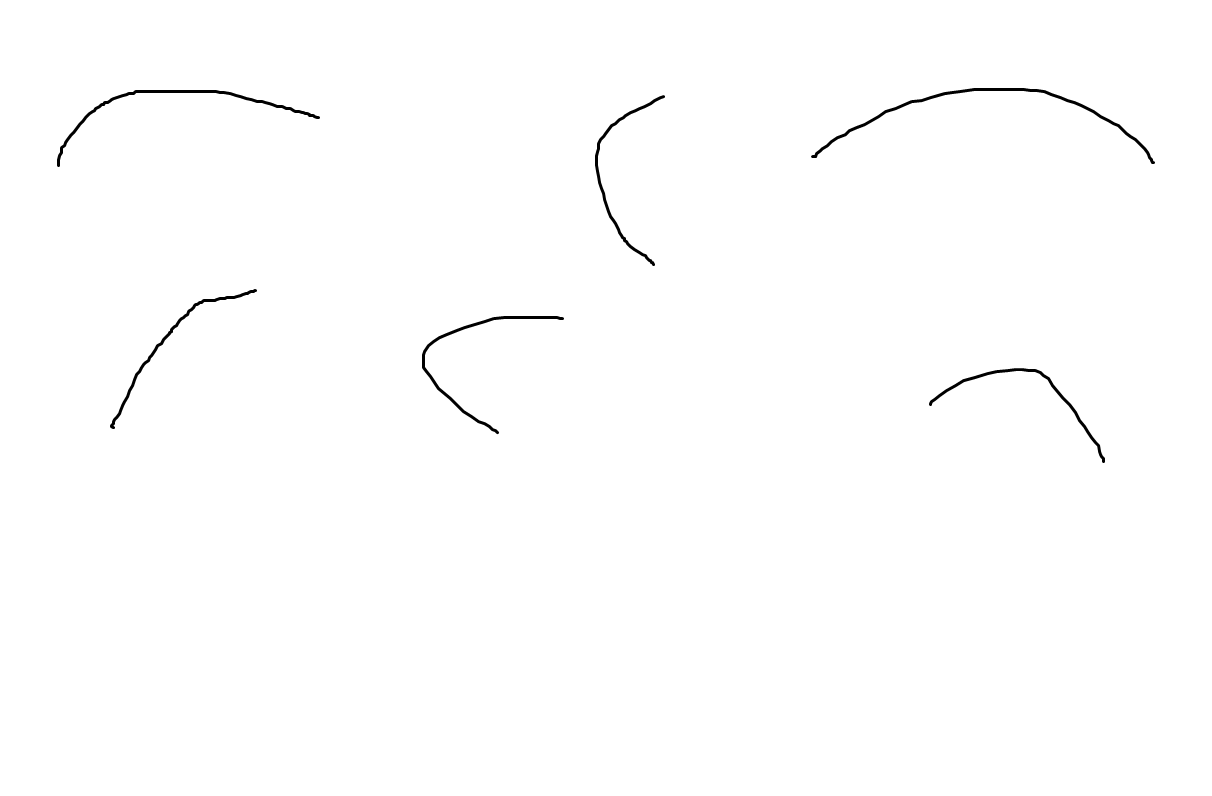tube: (783, 66, 1166, 191), (34, 69, 325, 179), (89, 277, 268, 438), (399, 302, 582, 447), (909, 358, 1116, 479), (577, 85, 685, 274)
